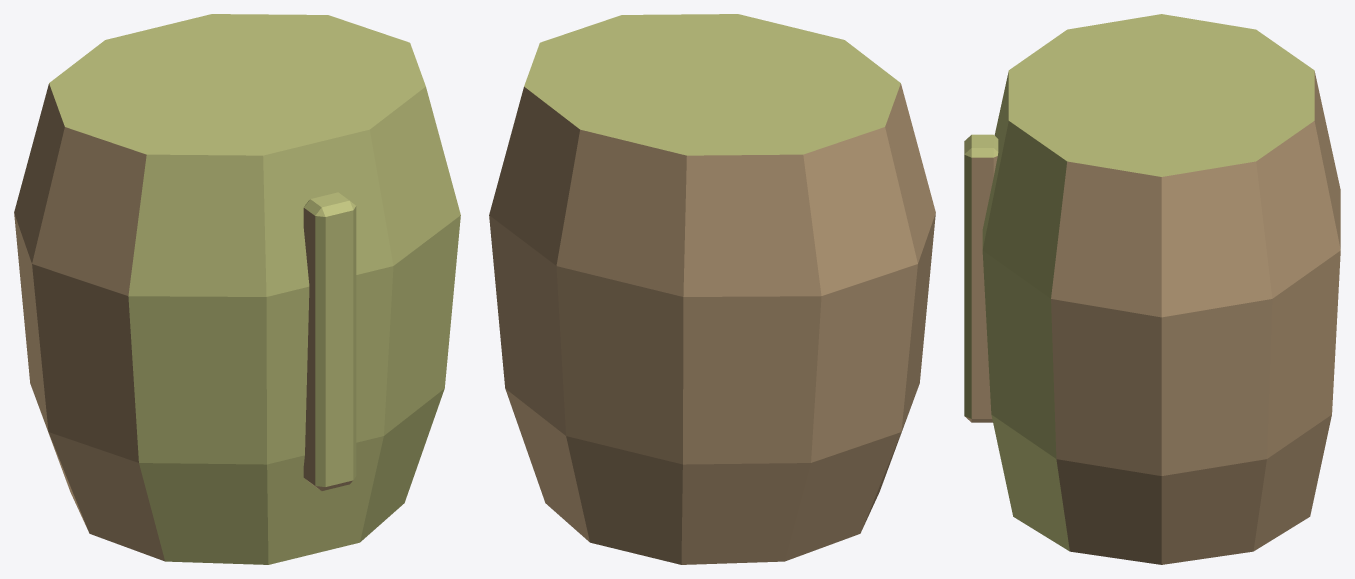
Rendered from npc_module_chest_plate_v01.glb.
3 views of the same model, side by side, from view 1: azimuth 30°, elevation 25°; view 2: azimuth 150°, elevation 25°; view 3: azimuth 270°, elevation 25° (orthographic). The views are drawn at different scales.
Visible parts, largest first — view 1: GEO_npc_module_chest_plate_v01; view 2: GEO_npc_module_chest_plate_v01; view 3: GEO_npc_module_chest_plate_v01.
Boxes of the visible parts, <box> form: GEO_npc_module_chest_plate_v01: <box>14,14,460,564</box>; GEO_npc_module_chest_plate_v01: <box>489,14,935,564</box>; GEO_npc_module_chest_plate_v01: <box>964,14,1340,564</box>.
Size of the model in its own units: 1 by 0.96 by 0.8199.
